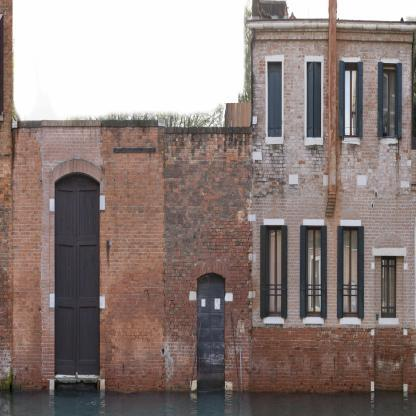Blind: (268, 61, 282, 137), (307, 62, 321, 137), (260, 224, 268, 317), (300, 224, 307, 317), (357, 226, 364, 319), (282, 224, 288, 318), (321, 225, 327, 318), (339, 59, 344, 137), (378, 61, 383, 138), (398, 62, 402, 140), (359, 61, 363, 138)
Building Outline: (0, 0, 416, 392)
Cornice: (195, 259, 228, 280), (372, 248, 407, 256)
Door: (55, 172, 100, 375), (197, 273, 225, 388), (53, 158, 101, 181)
Facade: (252, 30, 412, 392)
Floor Slab: (252, 175, 416, 186)
Ground Floor: (13, 127, 253, 392), (252, 185, 416, 392), (252, 42, 412, 186)
Sill: (379, 318, 399, 326)
Window: (265, 225, 282, 317), (343, 226, 359, 318), (306, 226, 322, 318), (268, 61, 282, 137), (307, 62, 321, 137), (344, 62, 358, 136), (383, 63, 396, 138), (382, 256, 396, 318), (337, 225, 344, 319)
